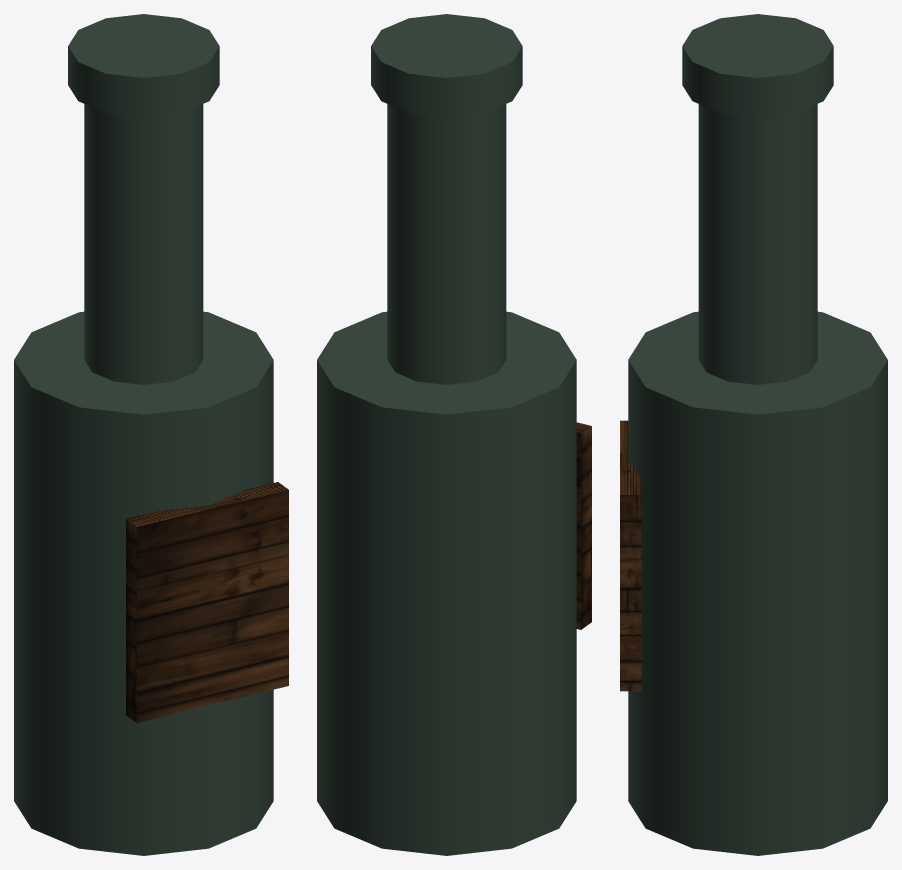
Rendered from loose_bottle.glb.
3 views of the same model, side by side, from view 1: azimuth 30°, elevation 25°; view 2: azimuth 150°, elevation 25°; view 3: azimuth 270°, elevation 25° (orthographic).
Visible parts, largest first — view 1: OldGlassBody, TornLabel, BottleNeck, BottleLip; view 2: OldGlassBody, BottleNeck, BottleLip, TornLabel; view 3: OldGlassBody, BottleNeck, BottleLip, TornLabel.
Boxes of the visible parts, box(x1,y1,x2,y2) form: OldGlassBody: box(14, 311, 273, 855); TornLabel: box(126, 482, 288, 722); BottleNeck: box(84, 104, 203, 384); BottleLip: box(68, 14, 219, 117); OldGlassBody: box(317, 311, 576, 855); BottleNeck: box(387, 104, 506, 384); BottleLip: box(371, 14, 522, 117); TornLabel: box(576, 422, 591, 629); OldGlassBody: box(628, 311, 887, 855); BottleNeck: box(698, 104, 817, 384); BottleLip: box(682, 14, 833, 117); TornLabel: box(620, 420, 641, 691).
Size of the model in its own units: 0.096 by 0.308 by 0.099.
2 materials, 1 textured.
